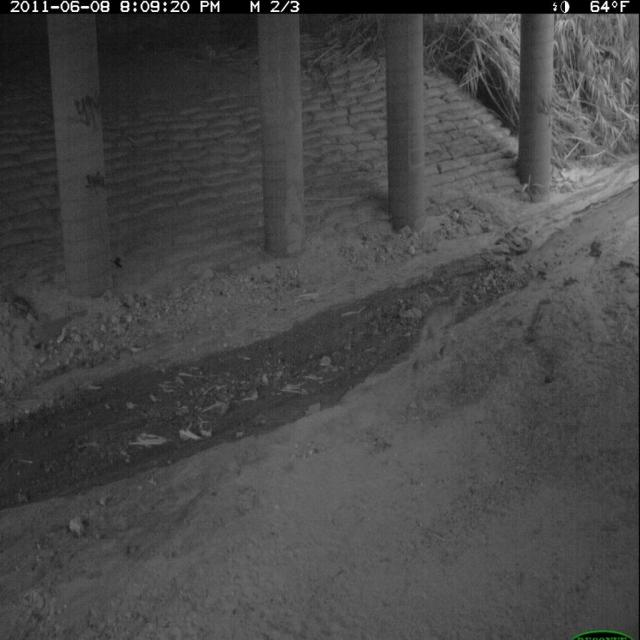bobcat: (406, 284, 473, 378)
